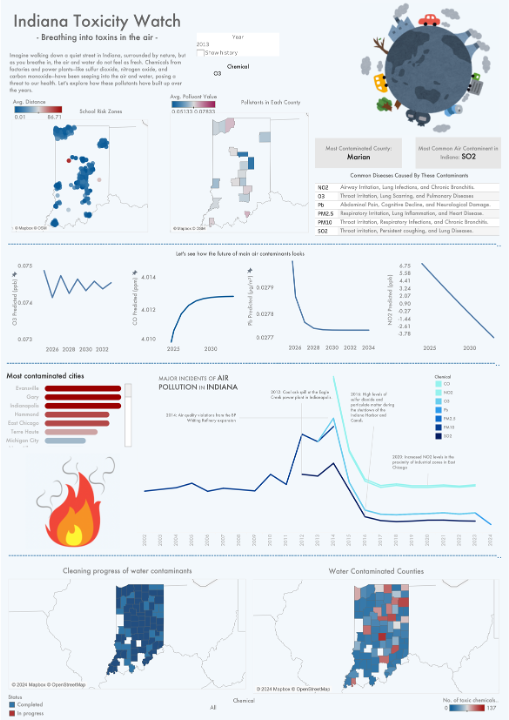

What the dashboard file says about the page in this screenshot:
{"tool":"tableau","page":{"name":"Air Dashboard","canvas":[1169,1654],"ordinal":0},"visuals":[{"type":"image","param":"/Users/yaminiane/Desktop/Screenshot 2024-11-17 at 11.46.30 AM.png","box":[811,7,349,303]},{"type":"text","box":[8,12,426,97]},{"type":"currpage","title":"Air","box":[450,75,191,54]},{"type":"text","box":[17,117,410,100]},{"type":"filter","title":"Air","param":"[federated.0pu5x0d0myun6c1h0lvzs1hn417g].[none:Chemical:nk]","box":[487,144,117,43]},{"type":"legend","title":"Air","param":"[federated.0pu5x0d0myun6c1h0lvzs1hn417g].[avg:Value:qk]","box":[389,210,109,50]},{"type":"text","box":[550,212,160,46]},{"type":"legend","title":"Schools Data","param":"[federated.0pu5x0d0myun6c1h0lvzs1hn417g].[avg:Calculation_345158705605345285:qk]","box":[27,222,118,55]},{"type":"text","box":[178,238,112,35]},{"type":"worksheet","title":"Air","mark":"Multipolygon","rows":["Latitude"],"cols":["Longitude"],"box":[389,259,320,276]},{"type":"worksheet","title":"Schools Data","mark":"Circle","rows":["Latitude (School Locations)"],"cols":["Longitude (School Locations)"],"box":[24,275,315,259]},{"type":"text","box":[954,315,197,72]},{"type":"text","box":[723,317,200,69]},{"type":"text","box":[801,387,336,31]},{"type":"worksheet","title":"Sheet 19","mark":"Automatic","rows":["Chemical","Effects"],"box":[723,420,425,132]},{"type":"text","box":[13,541,1143,34]},{"type":"text","box":[400,568,314,30]},{"type":"worksheet","title":"NO2","mark":"Line","rows":["Predicted Value"],"cols":["Year"],"box":[880,595,272,220]},{"type":"worksheet","title":"Pb","mark":"Line","rows":["Predicted Value"],"cols":["Year"],"box":[558,599,309,215]},{"type":"worksheet","title":"CO","mark":"Line","rows":["Predicted Value"],"cols":["Year"],"box":[293,600,258,217]},{"type":"worksheet","title":"o3","mark":"Line","rows":["Predicted Value"],"cols":["Year"],"box":[23,603,249,215]},{"type":"text","box":[10,815,1143,34]},{"type":"worksheet","title":"City/county","mark":"Line","rows":["City"],"box":[8,846,293,180]},{"type":"worksheet","title":"Air Line","mark":"Line","rows":["Value"],"cols":["Year"],"box":[312,846,833,423]},{"type":"text","box":[360,846,198,65]},{"type":"legend","title":"Air Line","param":"[federated.0pu5x0d0myun6c1h0lvzs1hn417g].[none:Chemical:nk]","box":[997,858,122,166]},{"type":"image","param":"/Users/yaminiane/Desktop/Screenshot 2024-11-17 at 12.22.29 PM.png","box":[21,1041,290,221]},{"type":"text","box":[14,1251,1146,46]},{"type":"worksheet","title":"Water","mark":"Multipolygon","box":[17,1294,547,290]},{"type":"worksheet","title":"Contaminated Counties","mark":"Automatic","box":[580,1295,567,299]},{"type":"legend","title":"Water","param":"[federated.0svw5t307vd1q51b4jcbk12u8zvu].[none:Status:nk]","box":[15,1592,140,57]},{"type":"legend","title":"Contaminated Counties","param":"[federated.0svw5t307vd1q51b4jcbk12u8zvu].[ctd:Chemical:qk]","box":[1017,1597,128,42]},{"type":"filter","title":"Water","param":"[federated.0svw5t307vd1q51b4jcbk12u8zvu].[none:Chemical:nk]","box":[479,1601,160,43]}]}

Visuals, with their boxes in screenshot pixels (x1, y1, x2, y2), scaled from the page's 1169x1654 canvas onto the 509x720 screenshot:
image: box(353, 3, 505, 135)
text: box(3, 5, 189, 47)
"Air" currpage: box(196, 33, 279, 56)
text: box(7, 51, 186, 94)
"Air" filter: box(212, 63, 263, 81)
"Air" legend: box(169, 91, 217, 113)
text: box(239, 92, 309, 112)
"Schools Data" legend: box(12, 97, 63, 121)
text: box(78, 104, 126, 119)
"Air" worksheet (Multipolygon marks): box(169, 113, 309, 233)
"Schools Data" worksheet (Circle marks): box(10, 120, 148, 232)
text: box(415, 137, 501, 168)
text: box(315, 138, 402, 168)
text: box(349, 168, 495, 182)
"Sheet 19" worksheet: box(315, 183, 500, 240)
text: box(6, 236, 503, 250)
text: box(174, 247, 311, 260)
"NO2" worksheet (Line marks): box(383, 259, 502, 355)
"Pb" worksheet (Line marks): box(243, 261, 378, 354)
"CO" worksheet (Line marks): box(128, 261, 240, 356)
"o3" worksheet (Line marks): box(10, 262, 118, 356)
text: box(4, 355, 502, 370)
"City/county" worksheet (Line marks): box(3, 368, 131, 447)
"Air Line" worksheet (Line marks): box(136, 368, 499, 552)
text: box(157, 368, 243, 397)
"Air Line" legend: box(434, 373, 487, 446)
image: box(9, 453, 135, 549)
text: box(6, 545, 505, 565)
"Water" worksheet (Multipolygon marks): box(7, 563, 246, 690)
"Contaminated Counties" worksheet: box(253, 564, 499, 694)
"Water" legend: box(7, 693, 67, 718)
"Contaminated Counties" legend: box(443, 695, 499, 713)
"Water" filter: box(209, 697, 278, 716)
